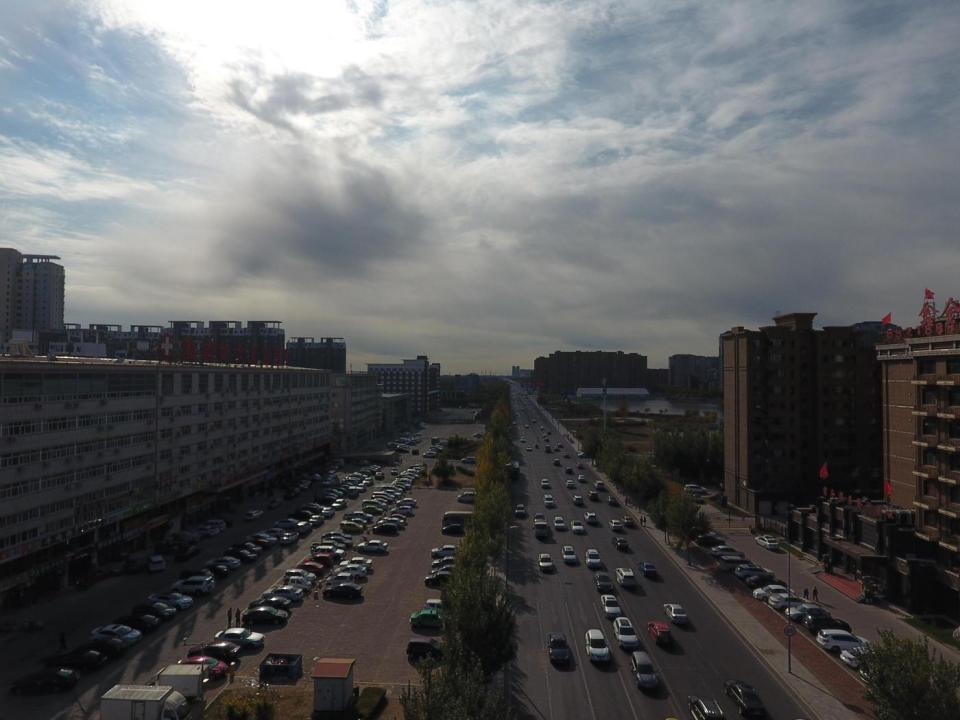bus: (442, 510, 478, 526), (510, 461, 520, 480)
car: (10, 668, 80, 694), (724, 679, 768, 718), (861, 658, 922, 684), (816, 629, 872, 653), (176, 656, 228, 680), (47, 651, 106, 672), (839, 646, 892, 669), (630, 651, 658, 691), (804, 613, 852, 636), (189, 640, 241, 661), (214, 628, 265, 649), (687, 695, 728, 720), (406, 638, 450, 660), (147, 591, 193, 611), (78, 637, 124, 657), (128, 601, 175, 620), (113, 613, 160, 632), (612, 617, 639, 650), (410, 608, 452, 629), (769, 592, 813, 612), (242, 606, 287, 625), (585, 630, 610, 664), (786, 604, 830, 623), (93, 626, 139, 644), (171, 576, 214, 595), (752, 584, 795, 601), (248, 596, 290, 613), (262, 585, 304, 602), (734, 564, 775, 581), (323, 582, 363, 599), (548, 632, 569, 664), (648, 621, 674, 646), (746, 574, 786, 590), (424, 600, 459, 617), (662, 603, 688, 624), (424, 572, 458, 587), (601, 594, 622, 618), (283, 569, 316, 584), (205, 556, 240, 570), (693, 534, 728, 548), (334, 564, 366, 579), (340, 556, 372, 570), (196, 565, 230, 578), (290, 562, 324, 575), (711, 546, 745, 559), (615, 567, 636, 588), (302, 553, 333, 567), (224, 549, 257, 562), (174, 545, 202, 560), (358, 539, 388, 553), (594, 571, 613, 593), (430, 564, 464, 576), (326, 573, 355, 587), (322, 536, 353, 549), (314, 547, 344, 560), (288, 576, 311, 592), (320, 532, 353, 543), (431, 545, 461, 557), (240, 538, 269, 550), (146, 555, 166, 572), (232, 542, 260, 554), (755, 536, 779, 550), (188, 526, 218, 537), (431, 557, 461, 568), (586, 549, 602, 569), (248, 534, 277, 545), (638, 562, 657, 578), (538, 554, 553, 574), (372, 523, 398, 534), (562, 546, 578, 563), (390, 505, 414, 516), (440, 523, 464, 534), (258, 528, 284, 538), (611, 536, 629, 550), (125, 558, 140, 574), (274, 518, 300, 527), (280, 532, 299, 544), (295, 521, 312, 534), (684, 484, 706, 494), (343, 522, 364, 532), (378, 518, 404, 526), (397, 497, 417, 507), (382, 514, 406, 522), (244, 510, 263, 520), (456, 492, 477, 501), (370, 495, 393, 503), (303, 504, 326, 512), (608, 519, 622, 532), (553, 516, 565, 531), (381, 486, 403, 494), (379, 490, 401, 498), (345, 518, 367, 526), (331, 498, 347, 509), (295, 506, 317, 514), (290, 511, 312, 519), (308, 515, 325, 525), (571, 520, 584, 533), (284, 488, 299, 499), (267, 498, 282, 509), (515, 503, 526, 518), (372, 492, 395, 499), (363, 506, 383, 514), (318, 492, 338, 500), (584, 512, 597, 524), (366, 499, 388, 506), (621, 516, 634, 527), (571, 494, 584, 505), (411, 466, 428, 474), (324, 489, 343, 496), (315, 498, 334, 505), (691, 493, 704, 503), (403, 469, 419, 477), (401, 470, 417, 478), (402, 472, 418, 480), (328, 459, 344, 467), (714, 482, 730, 490), (321, 507, 335, 516), (286, 484, 306, 490), (409, 465, 426, 472), (396, 474, 415, 480), (393, 478, 412, 484), (390, 484, 409, 490), (386, 485, 405, 491), (302, 474, 321, 480), (576, 451, 592, 458), (534, 512, 544, 523), (587, 491, 598, 501), (396, 476, 414, 482), (393, 482, 411, 488), (296, 480, 311, 487), (322, 466, 339, 472), (363, 464, 380, 470), (354, 470, 371, 476), (341, 478, 358, 484), (335, 484, 352, 490), (331, 488, 348, 494), (348, 486, 358, 496), (360, 468, 376, 474), (350, 472, 366, 478), (345, 476, 361, 482), (339, 481, 355, 487), (461, 457, 476, 463), (354, 459, 369, 465), (324, 463, 342, 468), (594, 481, 604, 490), (541, 478, 550, 488), (605, 496, 616, 504), (346, 476, 363, 481), (362, 478, 374, 485), (322, 478, 334, 485), (356, 484, 366, 492), (361, 467, 377, 472), (423, 452, 436, 458), (413, 464, 426, 470), (374, 472, 385, 479), (397, 446, 409, 452), (565, 480, 574, 488), (576, 475, 586, 482), (426, 451, 437, 457), (387, 442, 398, 448), (379, 447, 391, 452), (377, 449, 389, 454), (376, 451, 388, 456), (396, 448, 408, 453), (398, 444, 409, 449), (410, 438, 420, 443), (565, 467, 572, 474), (430, 446, 442, 450), (430, 448, 442, 452), (411, 449, 419, 455), (390, 468, 398, 474), (408, 439, 417, 444), (433, 445, 444, 449), (428, 450, 439, 454), (405, 441, 416, 445), (554, 459, 560, 466), (412, 437, 420, 442), (396, 438, 406, 442), (575, 463, 583, 468), (552, 446, 560, 451), (399, 438, 408, 442), (563, 452, 569, 458), (520, 437, 526, 443), (474, 432, 485, 435), (473, 434, 484, 437), (414, 436, 422, 440), (417, 425, 426, 428), (545, 437, 550, 442), (543, 433, 548, 438), (402, 432, 410, 435), (557, 443, 563, 447), (526, 446, 532, 450), (546, 430, 552, 434), (419, 422, 426, 425), (470, 410, 475, 414), (399, 433, 409, 435), (540, 426, 544, 430), (532, 419, 536, 423), (524, 424, 528, 428), (418, 423, 425, 425), (417, 424, 424, 426), (515, 412, 518, 416), (513, 421, 516, 424), (459, 406, 461, 409), (515, 409, 518, 411), (521, 408, 523, 411), (466, 408, 468, 410), (518, 402, 520, 404), (511, 402, 513, 404), (523, 404, 525, 406), (528, 403, 530, 405), (513, 397, 516, 398), (524, 402, 525, 404), (514, 398, 515, 400), (525, 397, 527, 398)
truck: (101, 683, 191, 720), (146, 663, 209, 699), (309, 539, 346, 554), (533, 513, 547, 538), (343, 511, 373, 522), (430, 437, 440, 444), (545, 444, 551, 452)
van: (719, 554, 758, 572), (179, 569, 215, 582), (198, 519, 226, 532), (362, 499, 387, 510), (542, 495, 554, 508), (326, 470, 337, 478), (438, 441, 449, 446), (414, 434, 421, 438)
